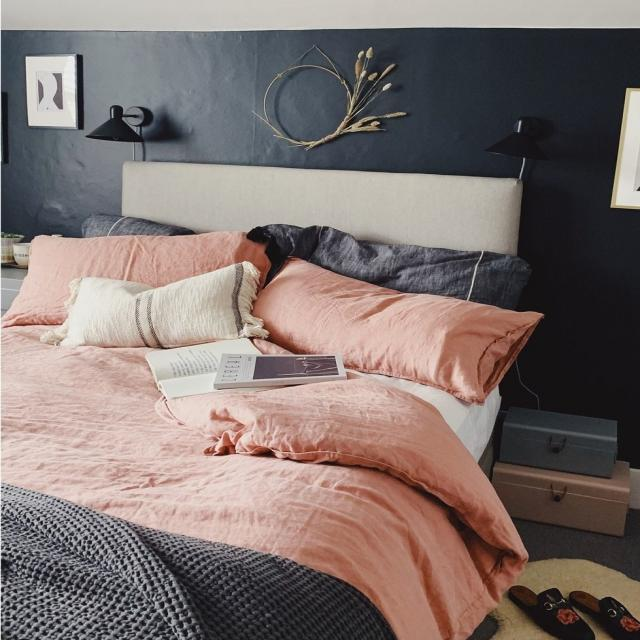bed: (0, 187, 535, 640)
